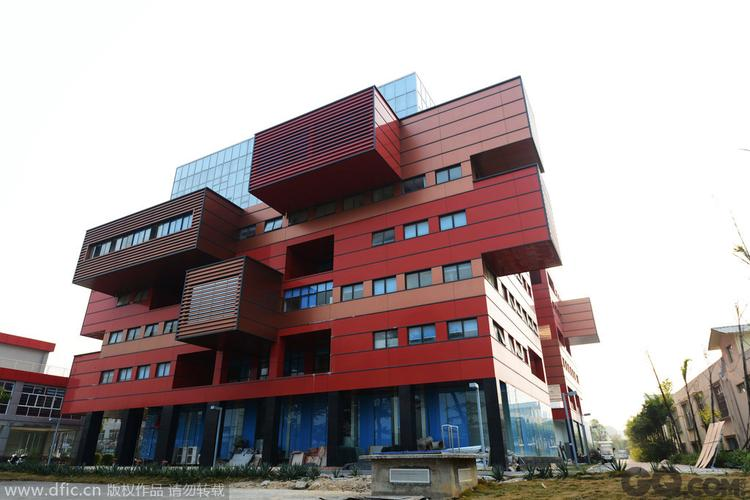buildings: (36, 103, 580, 492)
